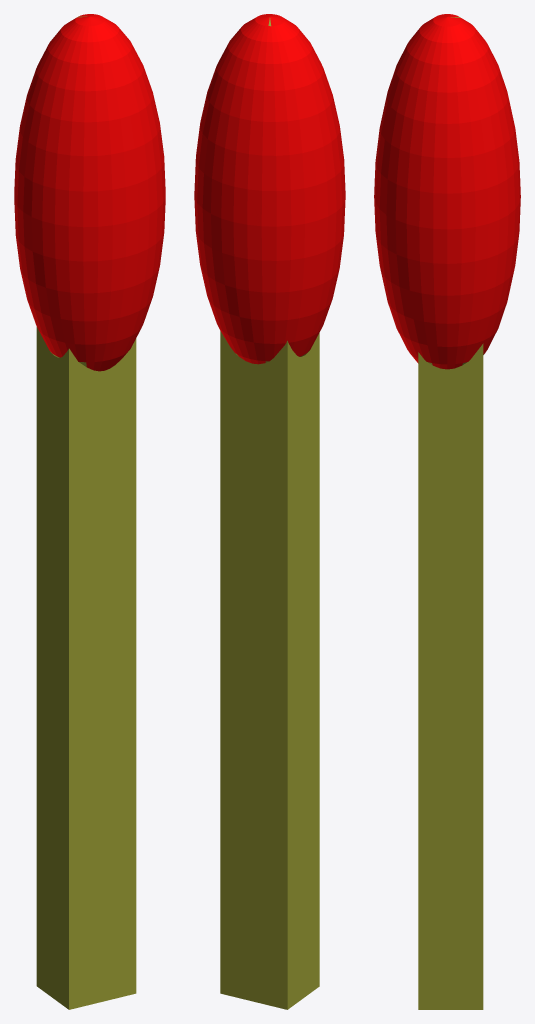
The model's file is fosforo.obj.
3 views of the same model, side by side, from view 1: azimuth 30°, elevation 25°; view 2: azimuth 150°, elevation 25°; view 3: azimuth 270°, elevation 25° (orthographic).
Visible parts, largest first — view 1: Cube; view 2: Cube; view 3: Cube.
Boxes of the visible parts, box(x1,y1,x2,y2) form: Cube: box(14, 14, 165, 1009); Cube: box(194, 14, 345, 1009); Cube: box(374, 14, 520, 1009).
Bounding box in the file's own units: 1.03 × 7.15 × 0.9729.
